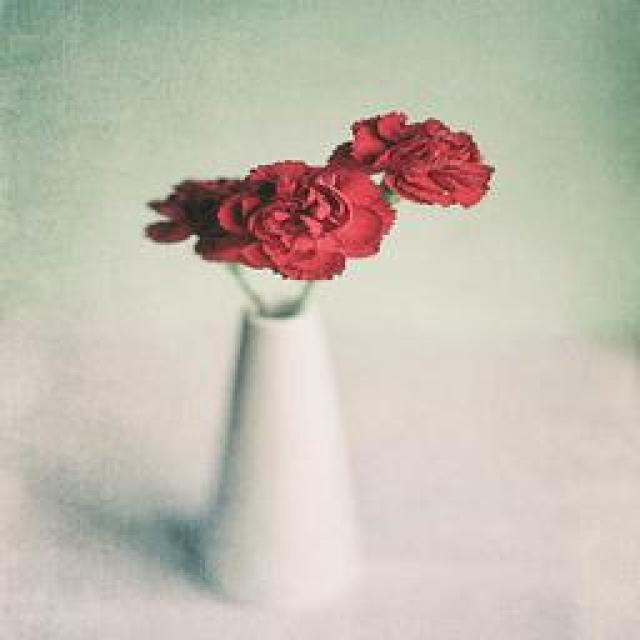carnation: (206, 152, 388, 296)
